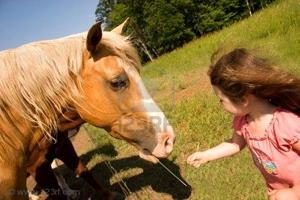person: (189, 47, 300, 200)
